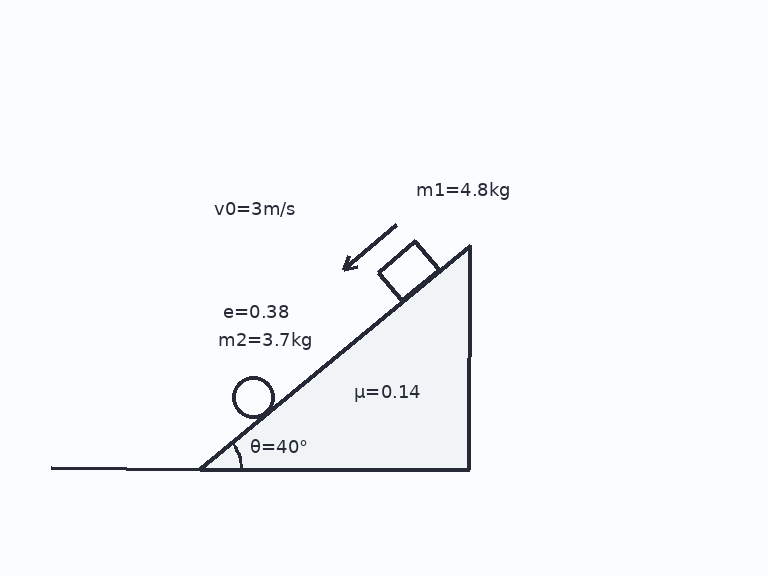ball: (230, 374, 276, 420)
block: (376, 239, 440, 302)
ramp: (199, 242, 470, 470)
